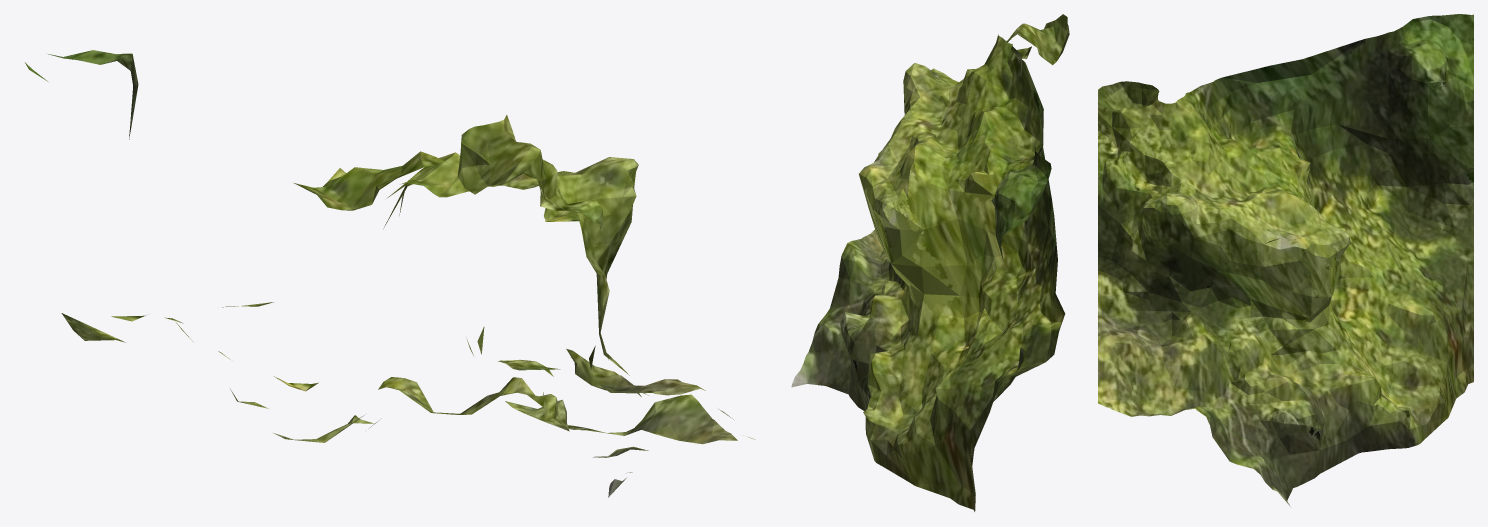
The picture shows the model from 3 angles, left to right: view 1: azimuth 30°, elevation 25°; view 2: azimuth 150°, elevation 25°; view 3: azimuth 270°, elevation 25°; orthographic projection. The views are drawn at different scales.
Size of the model in its own units: 2.94 by 2.95 by 2.95.
4 materials, 4 textured.
